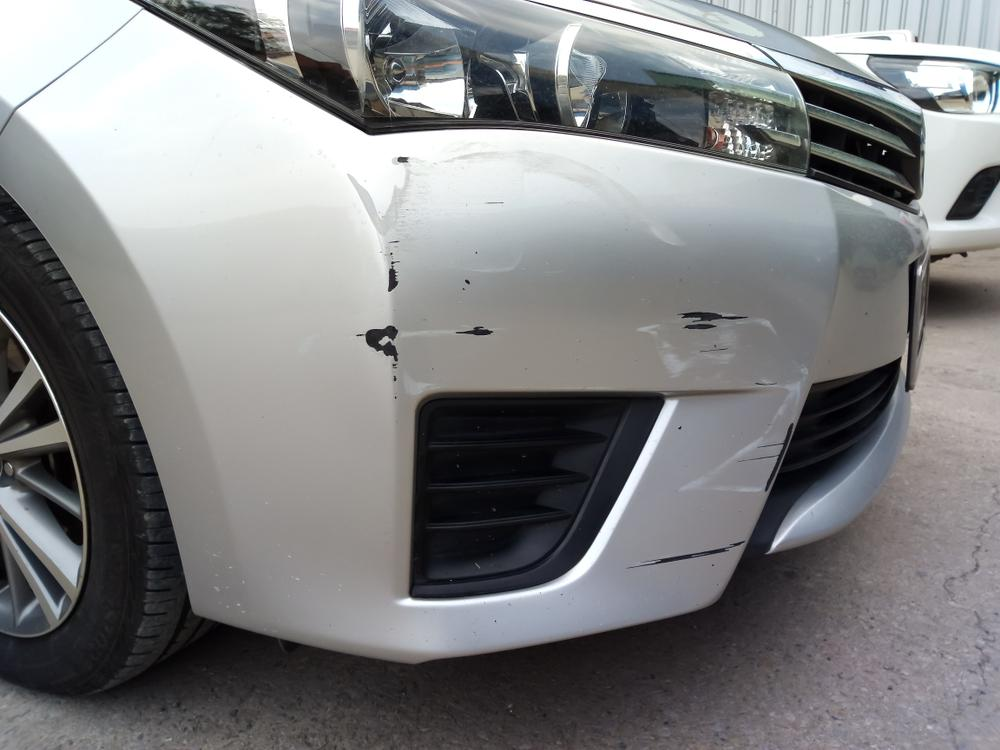scratch: (340, 149, 700, 390), (633, 302, 810, 500), (619, 532, 746, 570)
